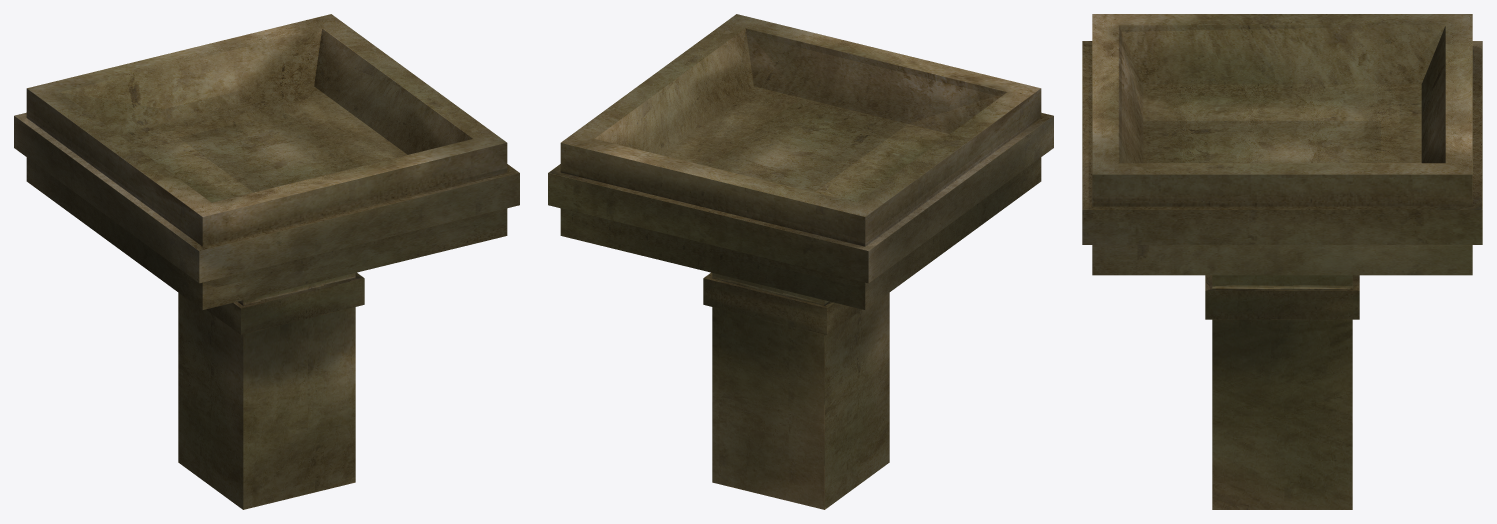
The model's file is altar.fbx.
3 views of the same model, side by side, from view 1: azimuth 30°, elevation 25°; view 2: azimuth 150°, elevation 25°; view 3: azimuth 270°, elevation 25° (orthographic). The views are drawn at different scales.
Visible parts, largest first — view 1: Cube; view 2: Cube; view 3: Cube.
Part boxes in pixels (x1,y1,x2,y2): Cube: (14,14,519,509); Cube: (548,14,1053,509); Cube: (1082,14,1482,509).
Size of the model in its own units: 5.7 by 6.06 by 5.7.
